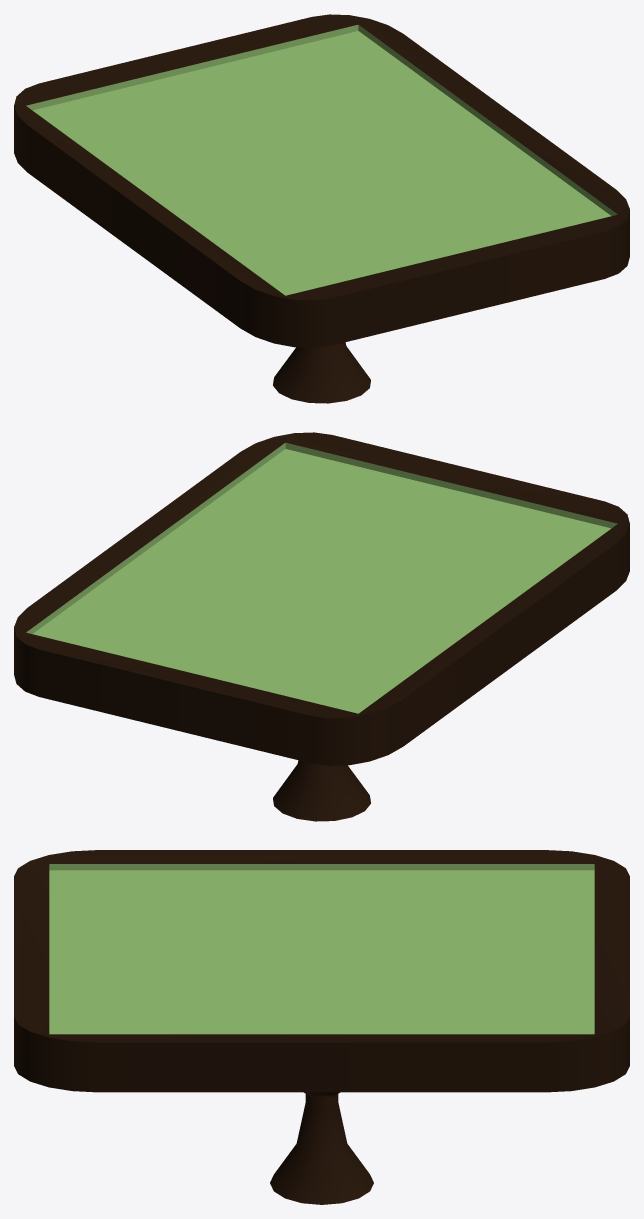
The model's file is F_Table_01.fbx.
The picture shows the model from 3 angles, top to bottom: view 1: azimuth 30°, elevation 25°; view 2: azimuth 150°, elevation 25°; view 3: azimuth 270°, elevation 25°; orthographic projection. The views are drawn at different scales.
Parts seen in each view (by area): view 1: F_Table_01; view 2: F_Table_01; view 3: F_Table_01.
Part boxes in pixels (x1,y1,x2,y2): F_Table_01: (14,14,629,403); F_Table_01: (14,432,629,821); F_Table_01: (14,850,629,1204).
Bounding box in the file's own units: 357 × 204 × 482.
